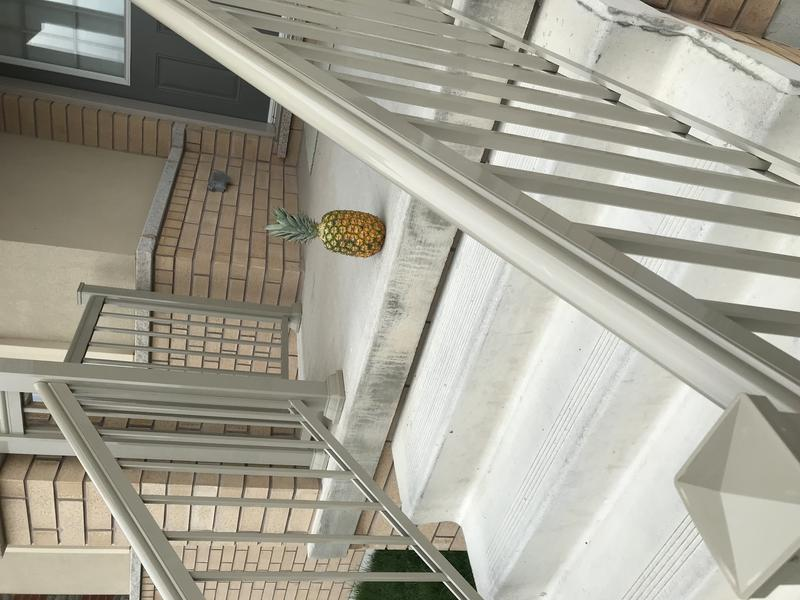pineapple: (258, 202, 392, 266)
